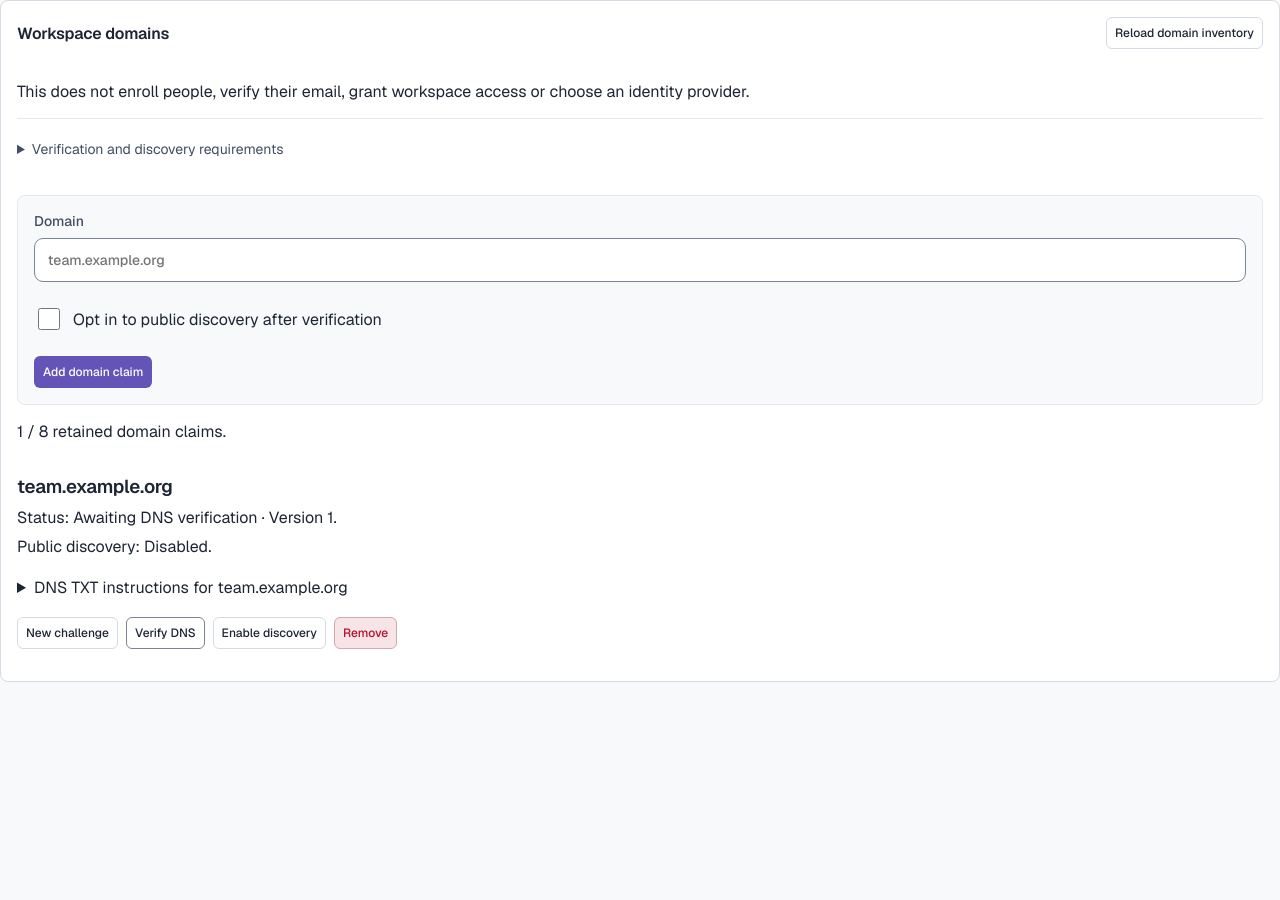
Test: Workspace domain administration › does not report DNS success when the resolver is unavailable
Click the button with aria-label "Verify DNS for team.example.org": (165, 633) 126,617 -> 205,649
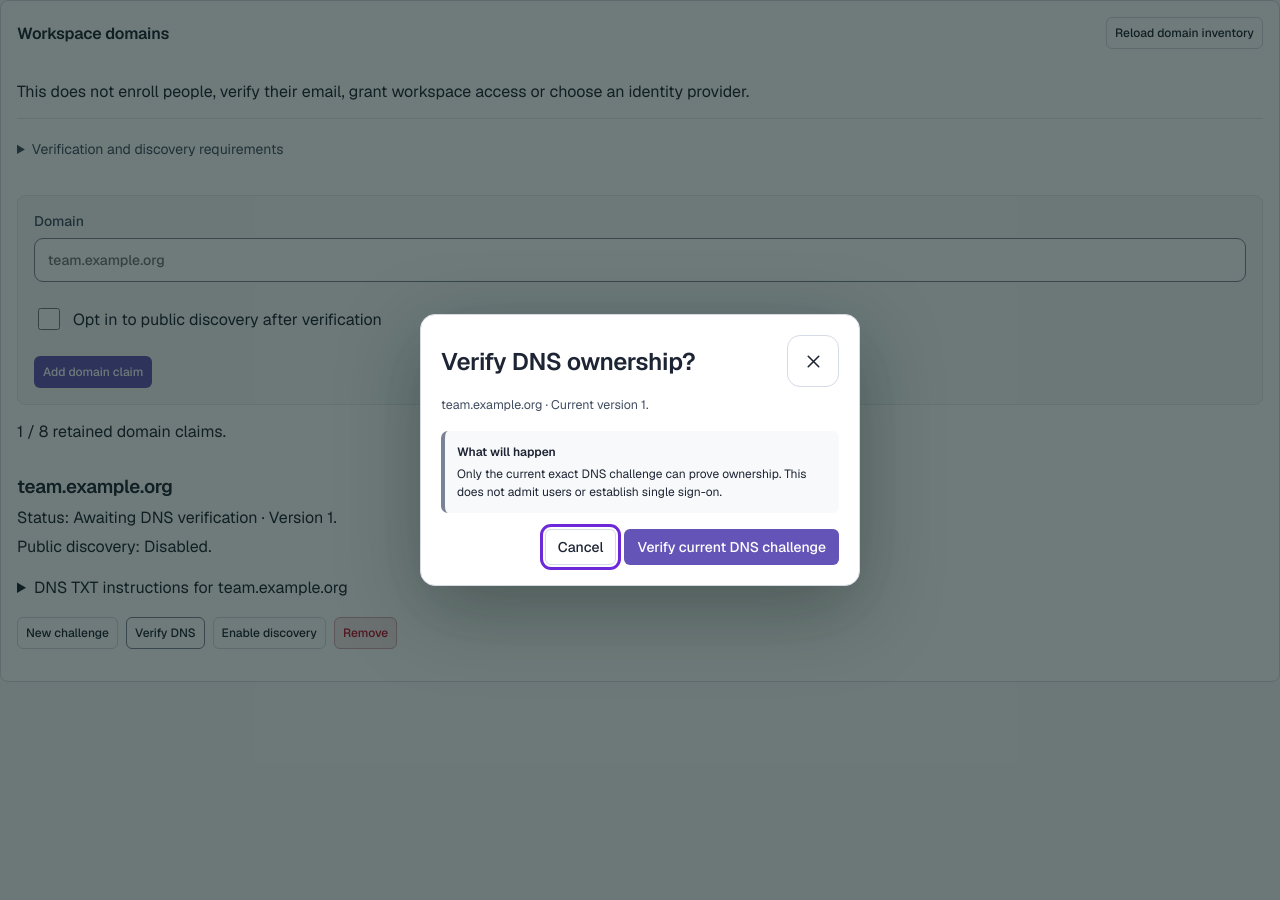
Click the button "Verify current DNS challenge": (732, 547) 624,529 -> 839,565
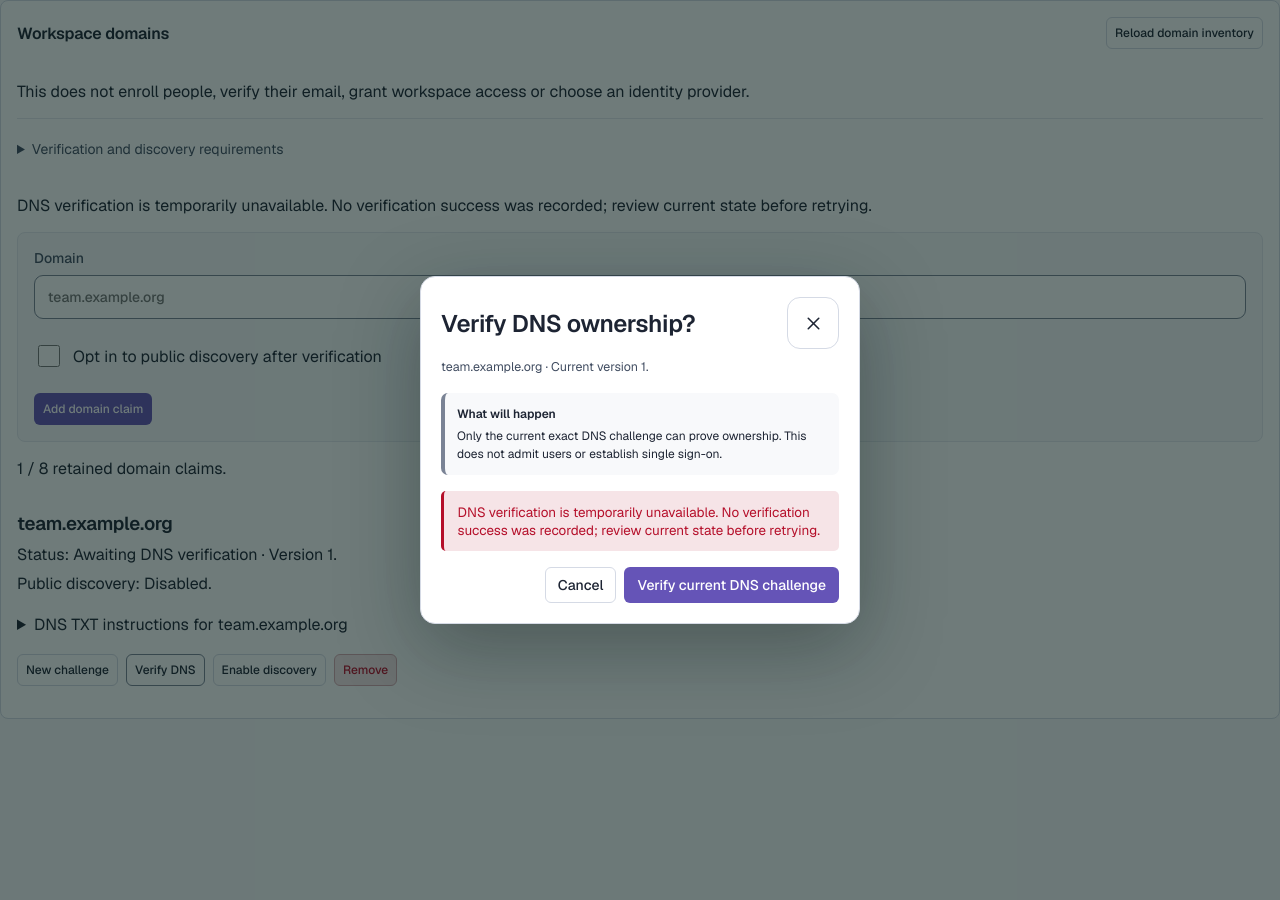
Expected: the text "Status: Awaiting DNS verification · Version 1." is shown, 17,544 -> 337,565
Expected: the text "No verification success was recorded" is shown 2 times, 17,195 -> 872,216; 441,491 -> 839,551
